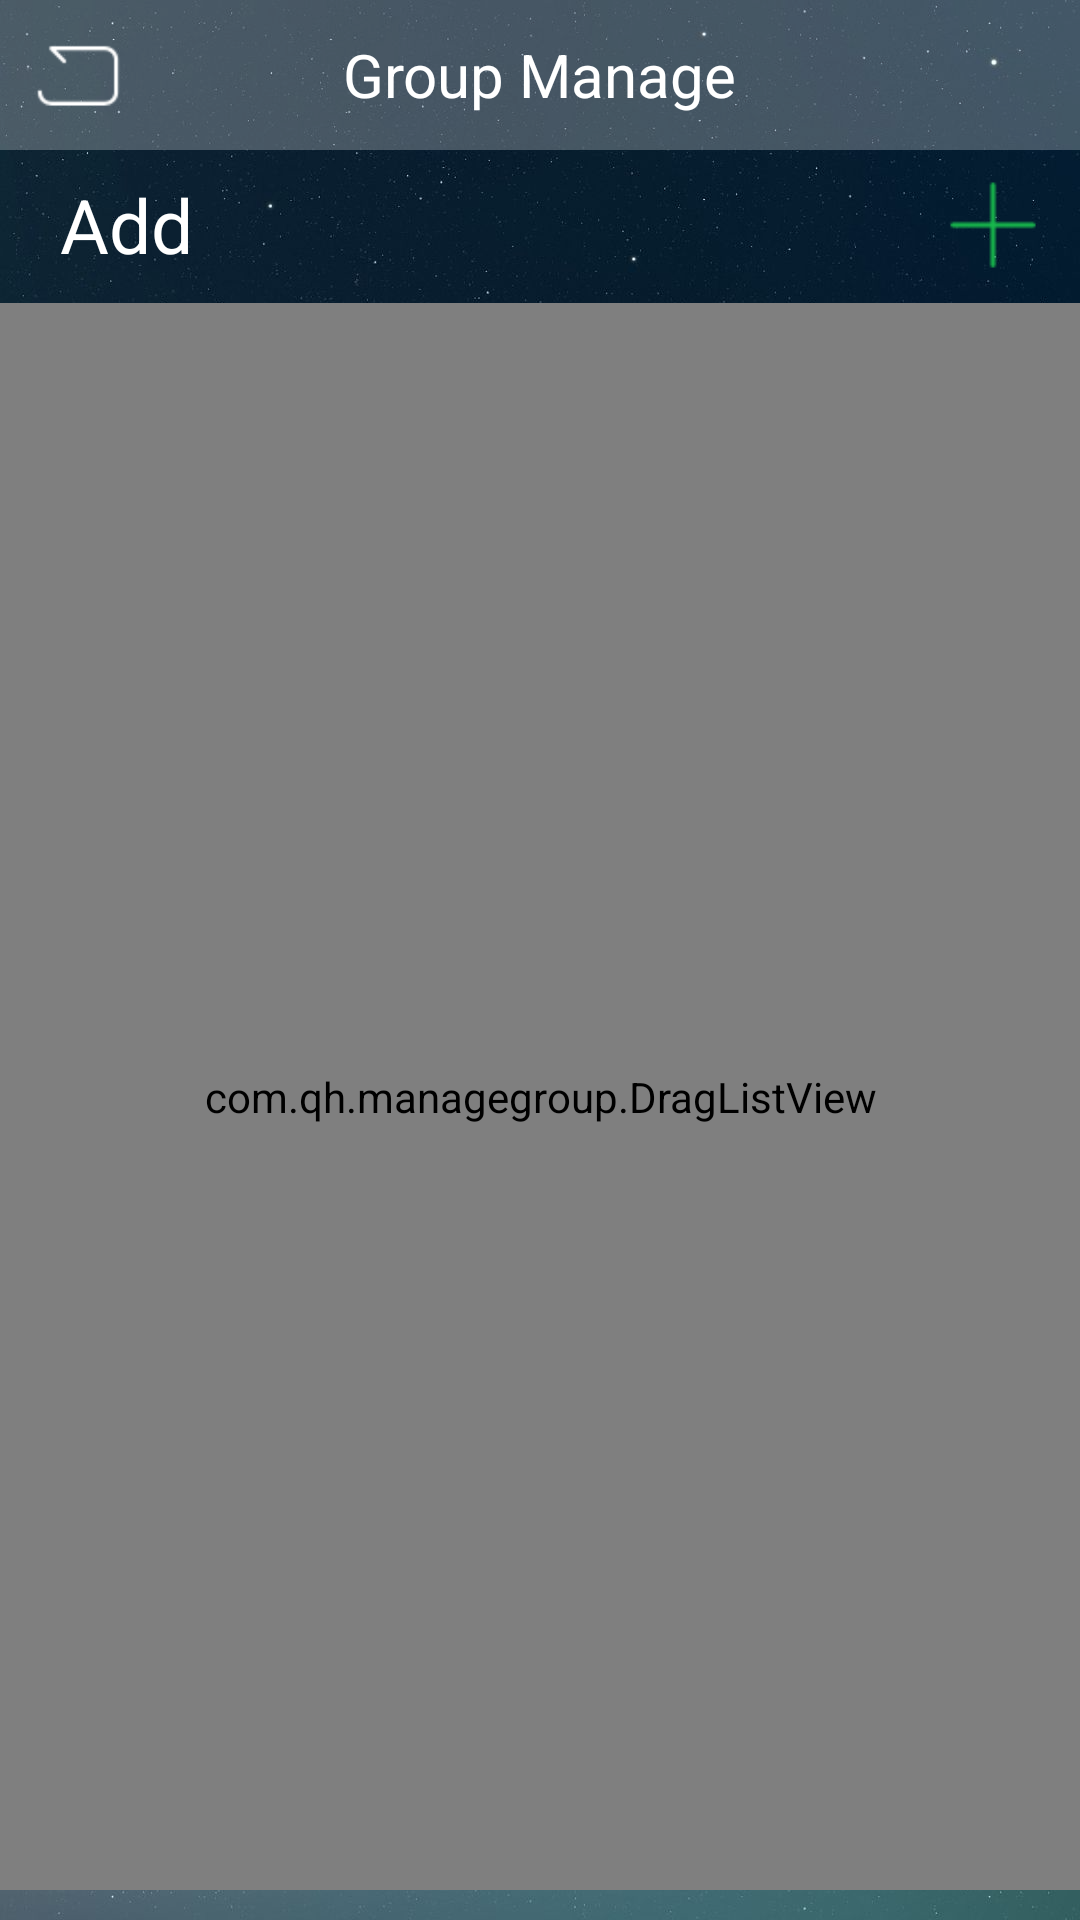

Icon click points for this 1080 x 1920 phone screenshot, format (x,y):
add: (982,219)
back: (78,74)
